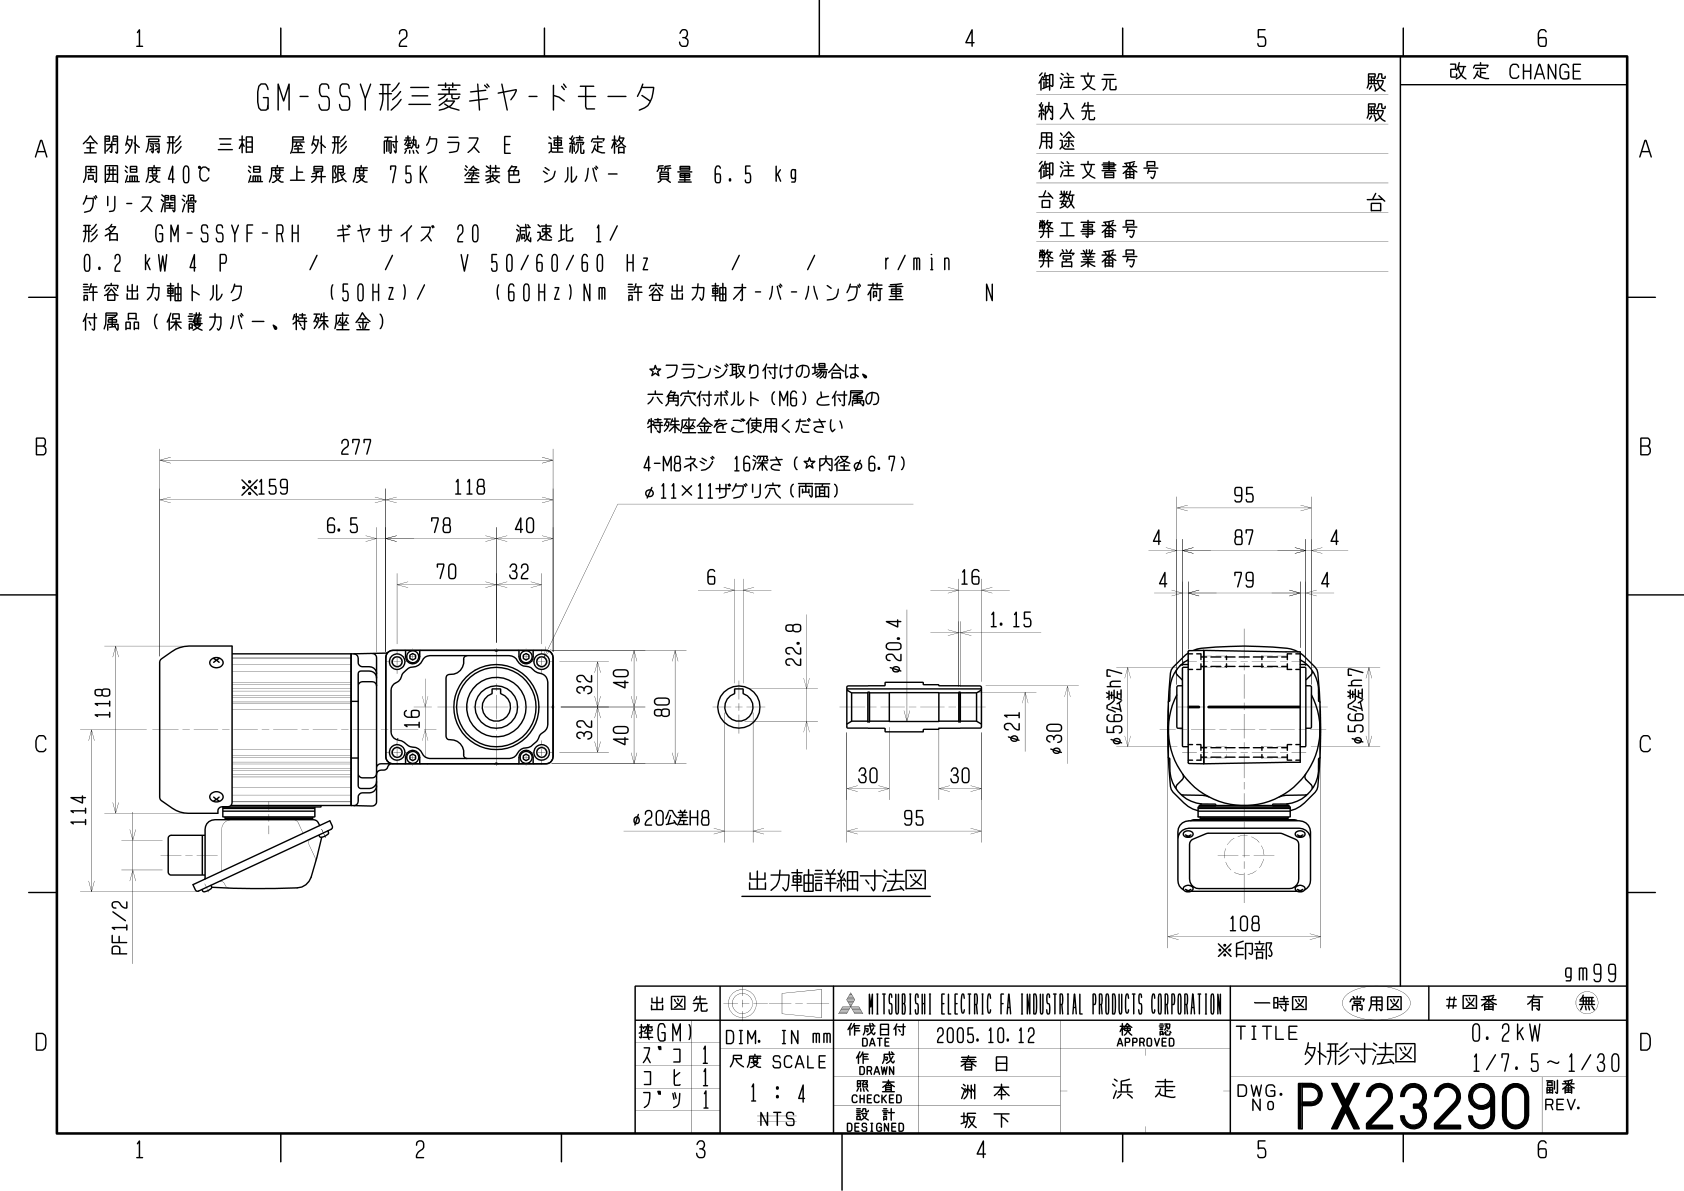GM_SSY_インバータ屋外_三相: (67, 351, 1386, 974)
